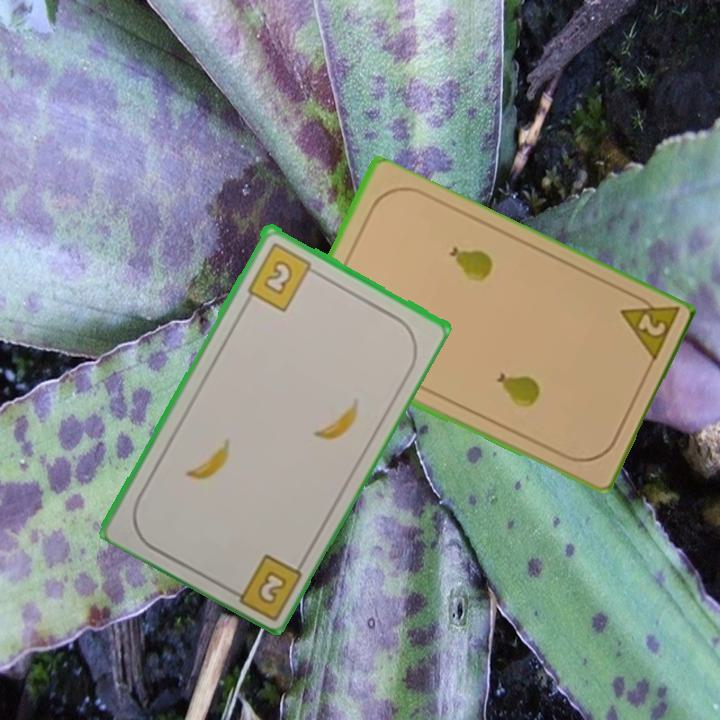2b: (243, 238, 322, 314), (222, 549, 305, 619)
2p: (615, 288, 681, 368)
